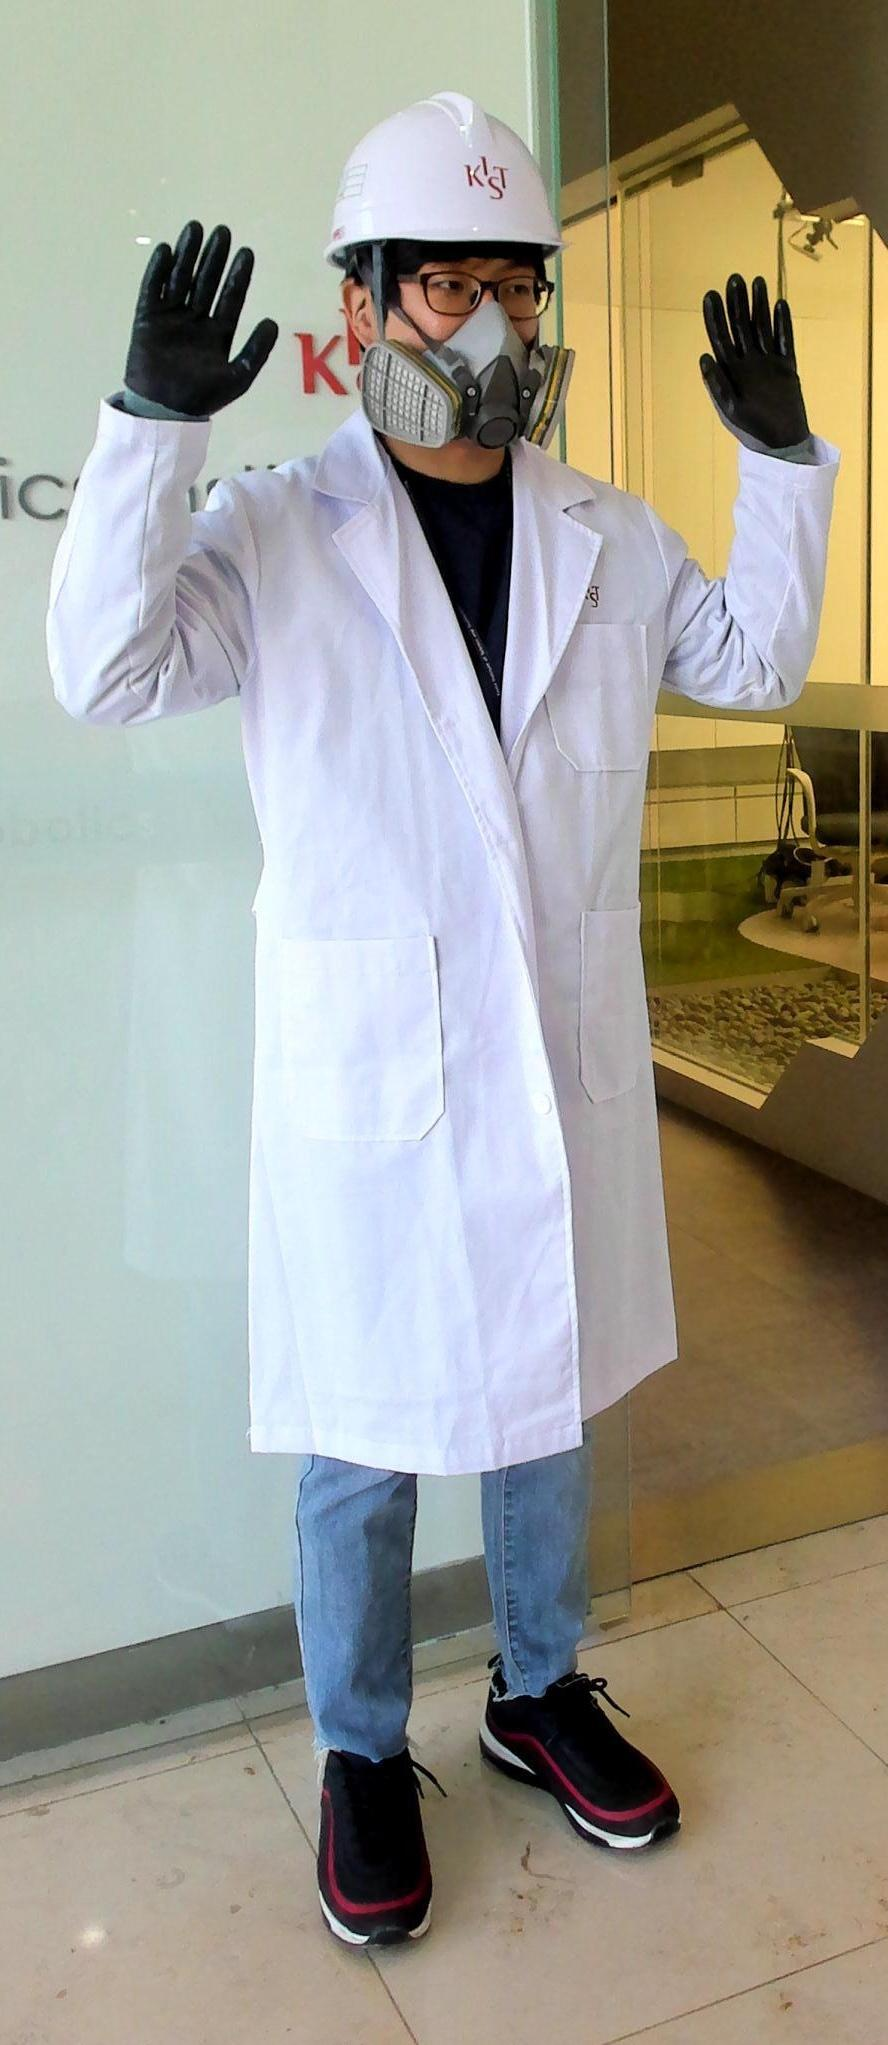lab_coat: (202, 506, 696, 1412)
